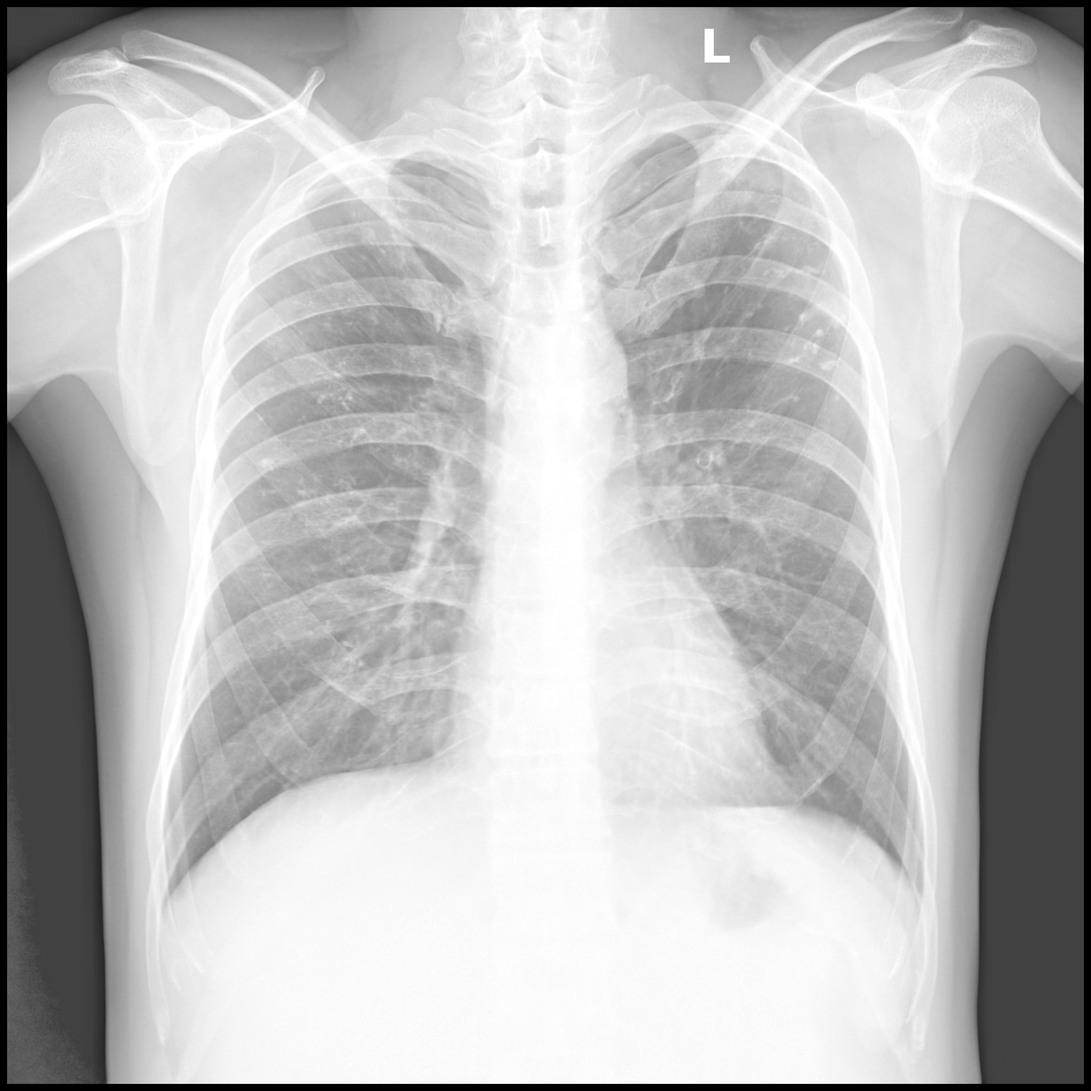Pulmonary fibrosis: (249, 186, 420, 475), (684, 134, 851, 415)
